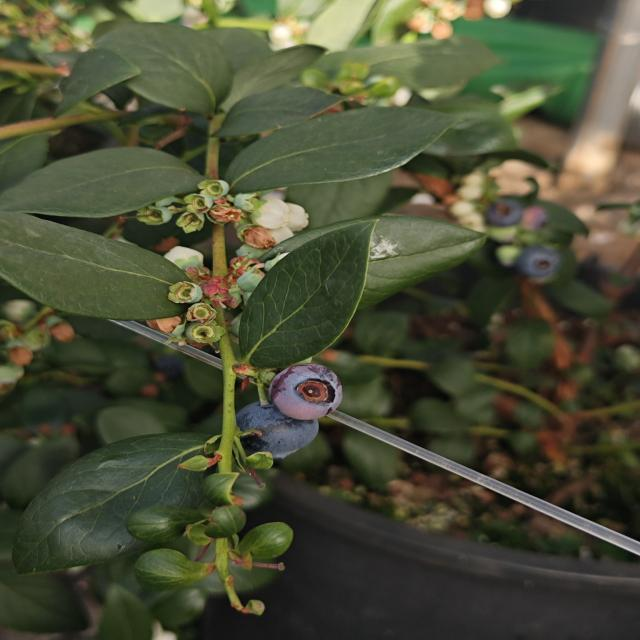ripe: (215, 396, 332, 461), (265, 355, 349, 422), (506, 241, 566, 282), (480, 189, 530, 230)
